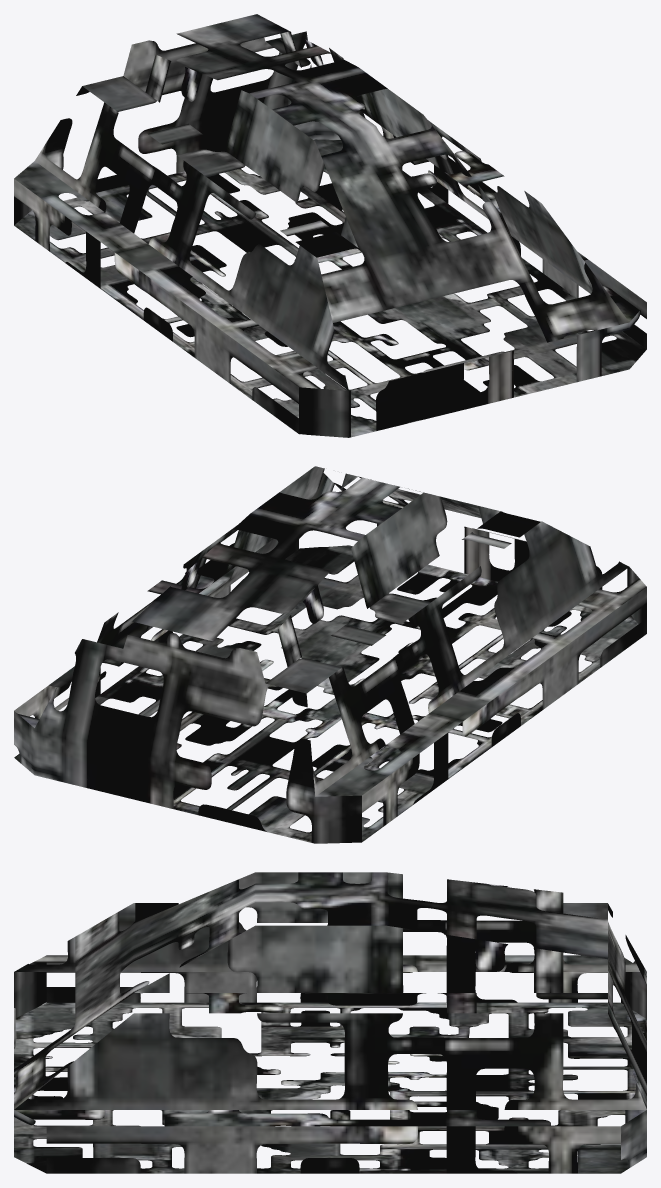
The model's file is trooptransportprop_dam_hdtex.glb.
3 views of the same model, one above another, from view 1: azimuth 30°, elevation 25°; view 2: azimuth 150°, elevation 25°; view 3: azimuth 270°, elevation 25° (orthographic).
Visible parts, largest first — view 1: TroopTransportL1; view 2: TroopTransportL1; view 3: TroopTransportL1.
Boxes of the visible parts, left/top/right/bottom form: TroopTransportL1: left=14, top=14, right=646, bottom=437; TroopTransportL1: left=14, top=466, right=646, bottom=843; TroopTransportL1: left=14, top=872, right=646, bottom=1173.
Bounding box in the file's own units: 4.34 × 2.24 × 6.78.
1 material, 1 textured.
